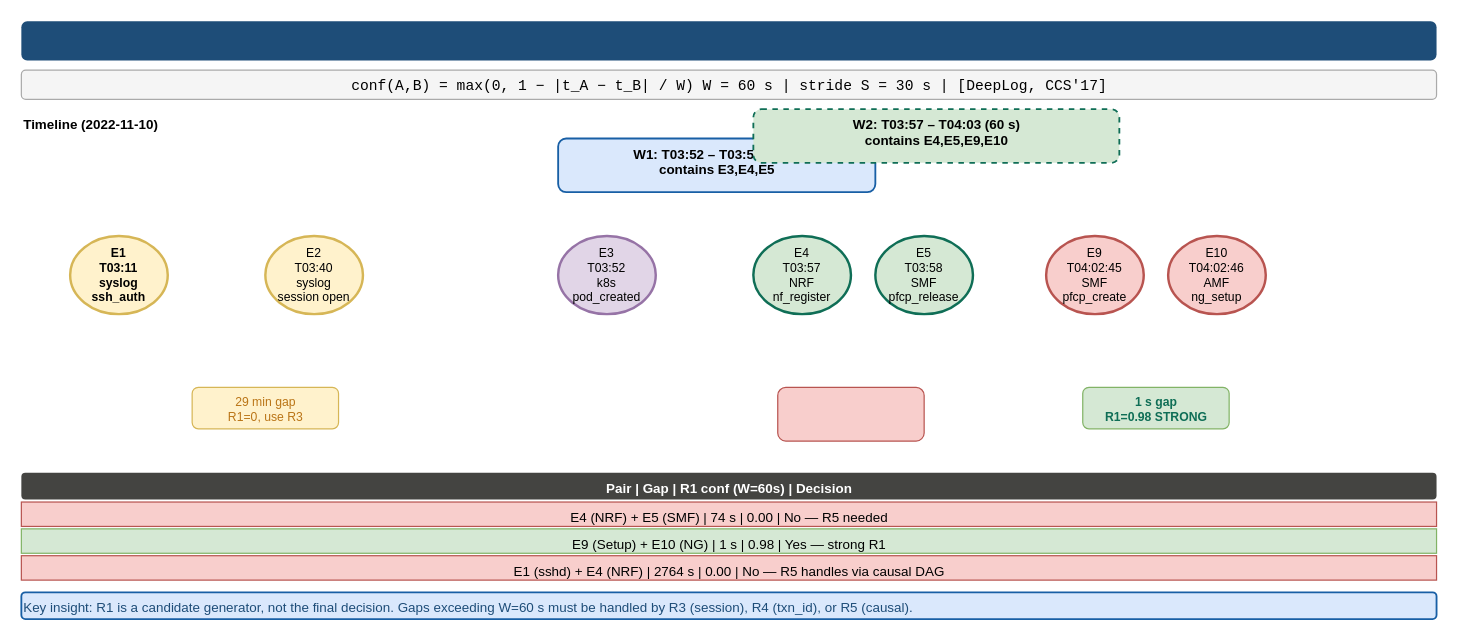
Some shapes in this 1459 by 641 pixel diagram are drawn without their labels. The box of each missing label's shape, as (x1, y1, x2, y2) in pixels:
74 s gap R1=0 at W=60s use R5 instead: (777, 386, 924, 441)
R1 — Temporal Window Correlation | Running Example: free5GC multi-source logs: (21, 21, 1436, 60)
